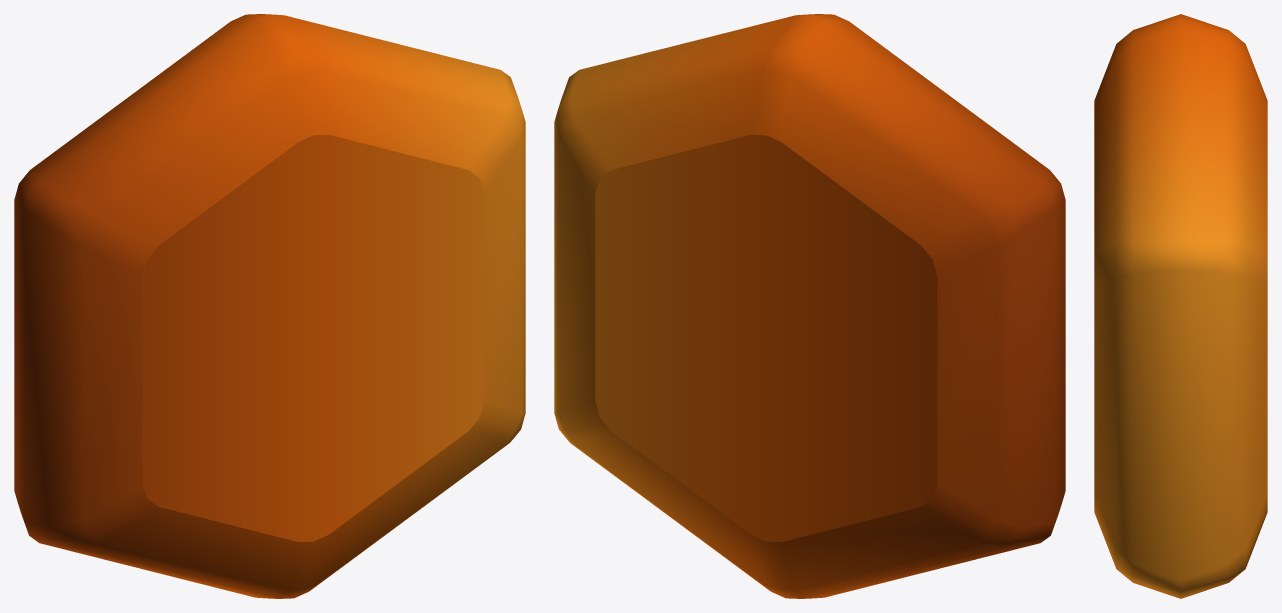
Rendered from Diamond_V2_3.fbx.
3 views of the same model, side by side, from view 1: azimuth 30°, elevation 25°; view 2: azimuth 150°, elevation 25°; view 3: azimuth 270°, elevation 25° (orthographic).
Visible parts, largest first — view 1: Diamond_V2_2; view 2: Diamond_V2_2; view 3: Diamond_V2_2.
Part boxes in pixels (<box>): Diamond_V2_2: <box>14,14,525,598</box>; Diamond_V2_2: <box>554,14,1065,598</box>; Diamond_V2_2: <box>1094,14,1267,598</box>.
Size of the model in its own units: 0.4273 by 0.4841 by 0.1318.
